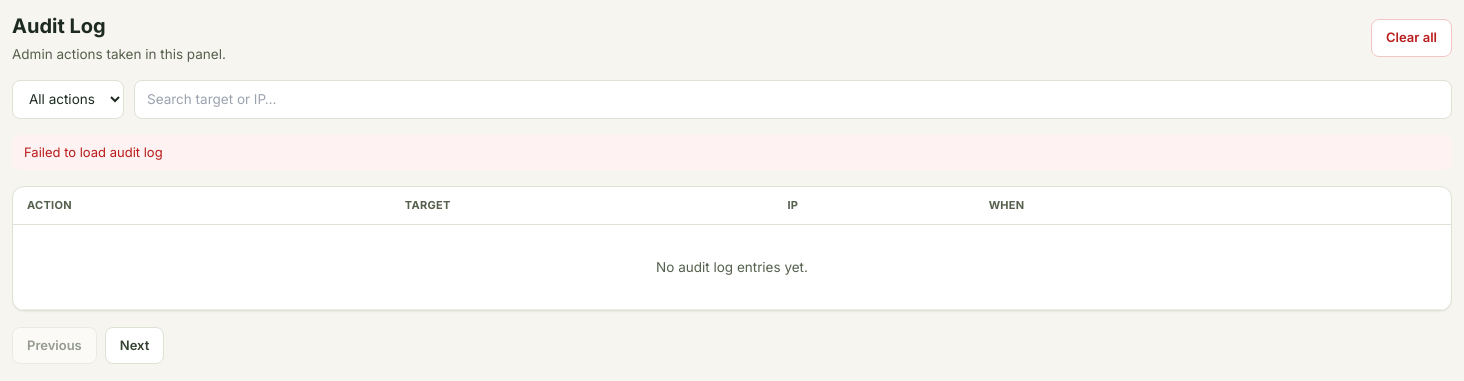
Test: AuditLogPage › clears error state when a load succeeds after a previous failure
The image size is (1464, 381).
Check: the text "Failed to load audit log" is shown, box top-left (12, 134), bottom-right (1452, 170)
Click the button "Next": click(135, 346) top-left (105, 327), bottom-right (164, 364)
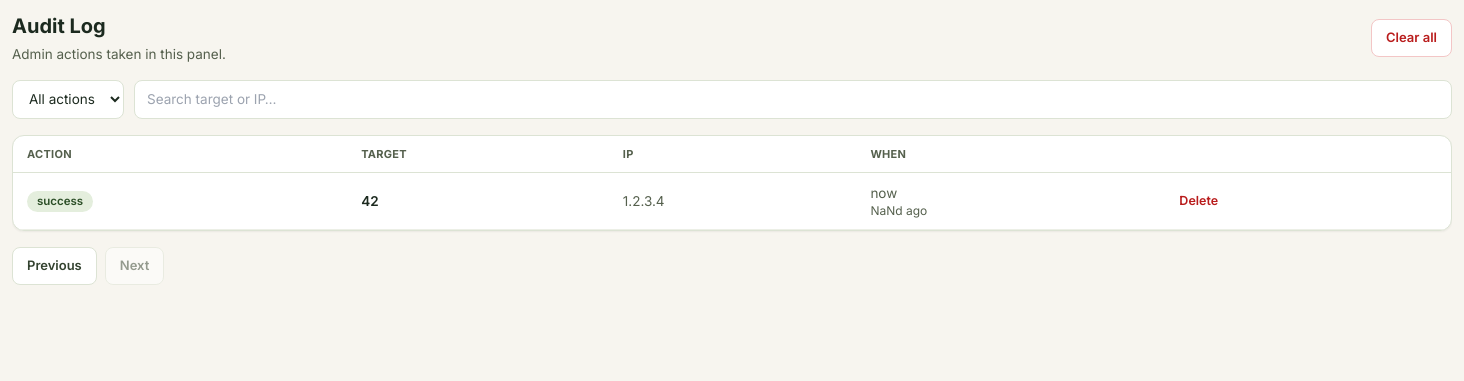
Check: the text "success" is shown, box top-left (27, 191), bottom-right (93, 212)
Check: the message "Failed to load audit log" is gone
